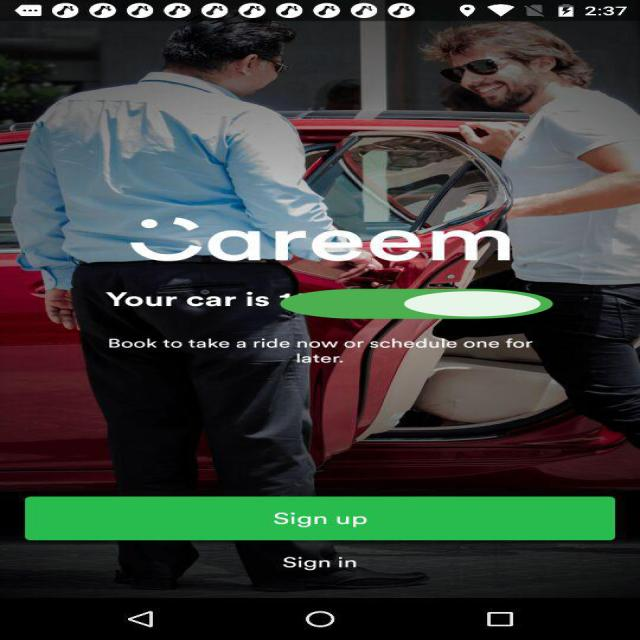social proof: (268, 277, 565, 333)
